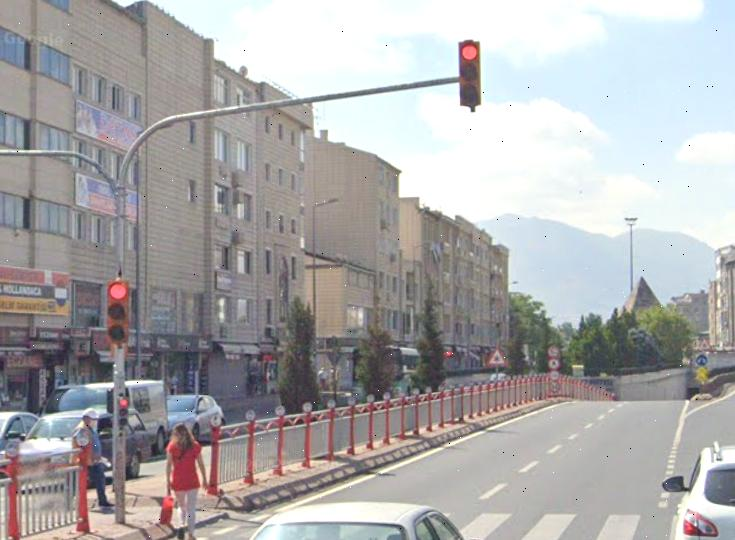redlight: (457, 42, 484, 106), (108, 280, 131, 344)
